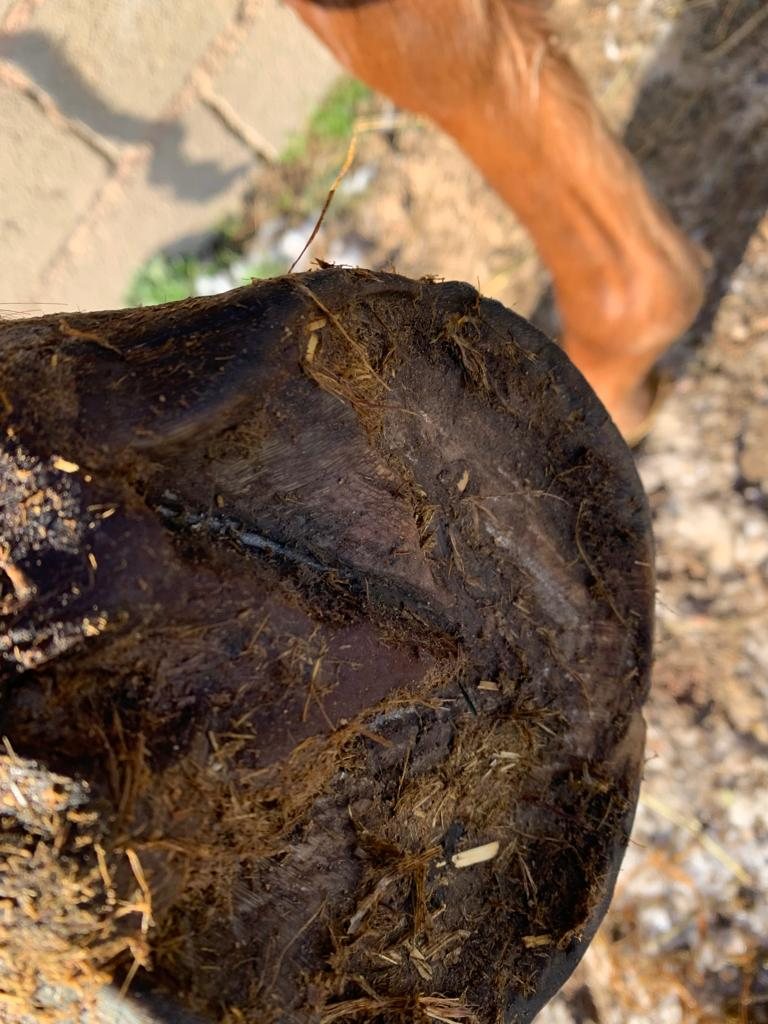horsesole: (1, 266, 657, 1024)
